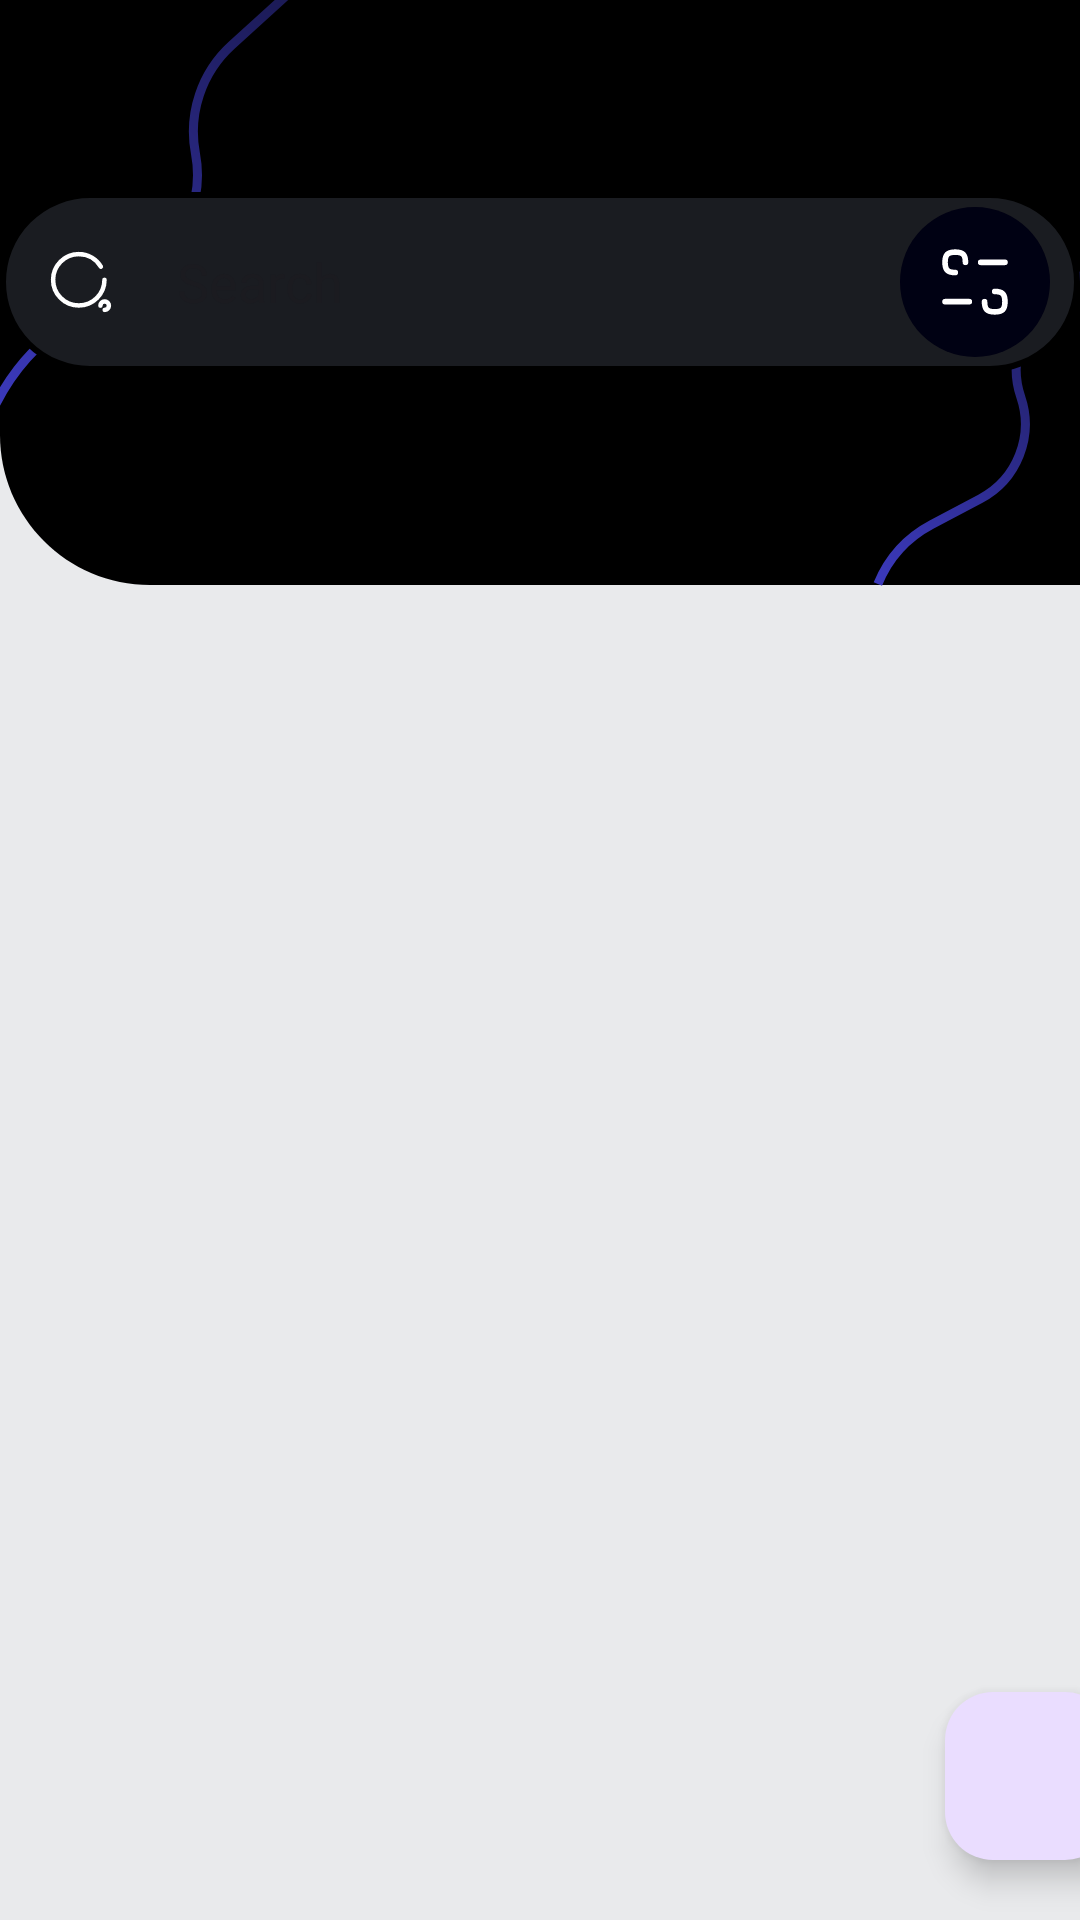

Where to tap for icons on this 1080px×1920px app screen, as point (x, y):
filter: point (975, 282)
